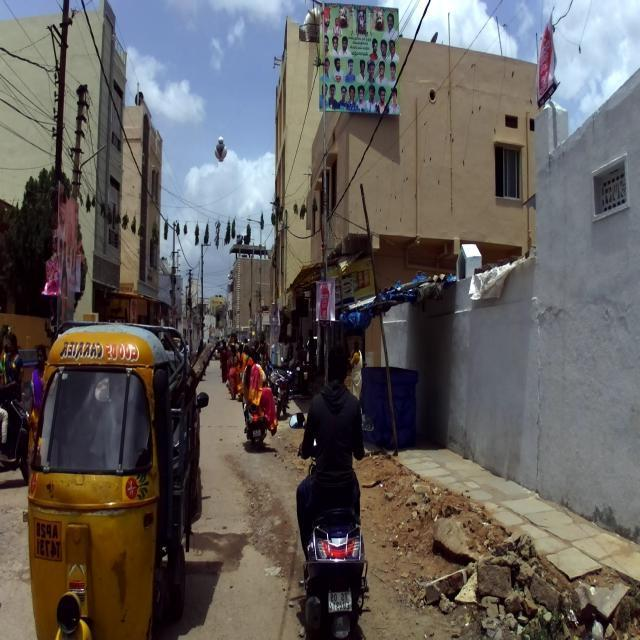Pothole: (214, 501, 292, 607)
